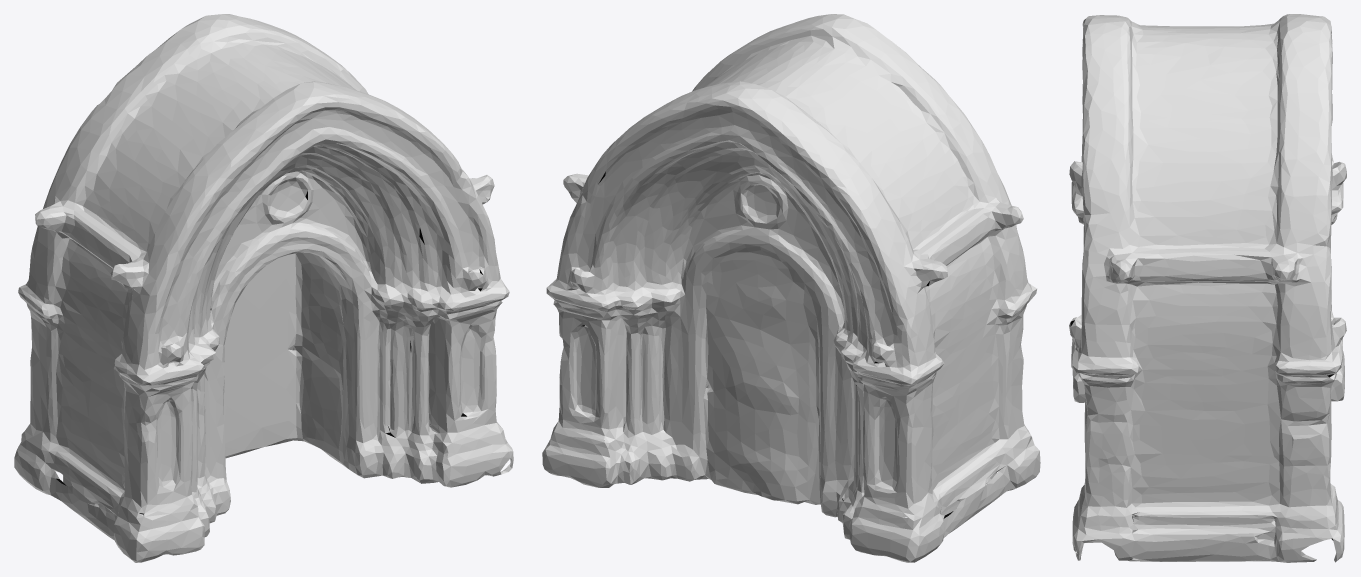
Rendered from cat_gate.glb.
3 renders of one model, left to right at view 1: azimuth 30°, elevation 25°; view 2: azimuth 150°, elevation 25°; view 3: azimuth 270°, elevation 25°, orthographic. The views are drawn at different scales.
Parts seen in each view (by area): view 1: Low; view 2: Low; view 3: Low.
Boxes of the visible parts, <box> form: Low: <box>14,14,513,562</box>; Low: <box>542,14,1040,562</box>; Low: <box>1069,14,1346,562</box>.
Size of the model in its own units: 1.89 by 1.99 by 1.12.
1 material, 1 textured.
